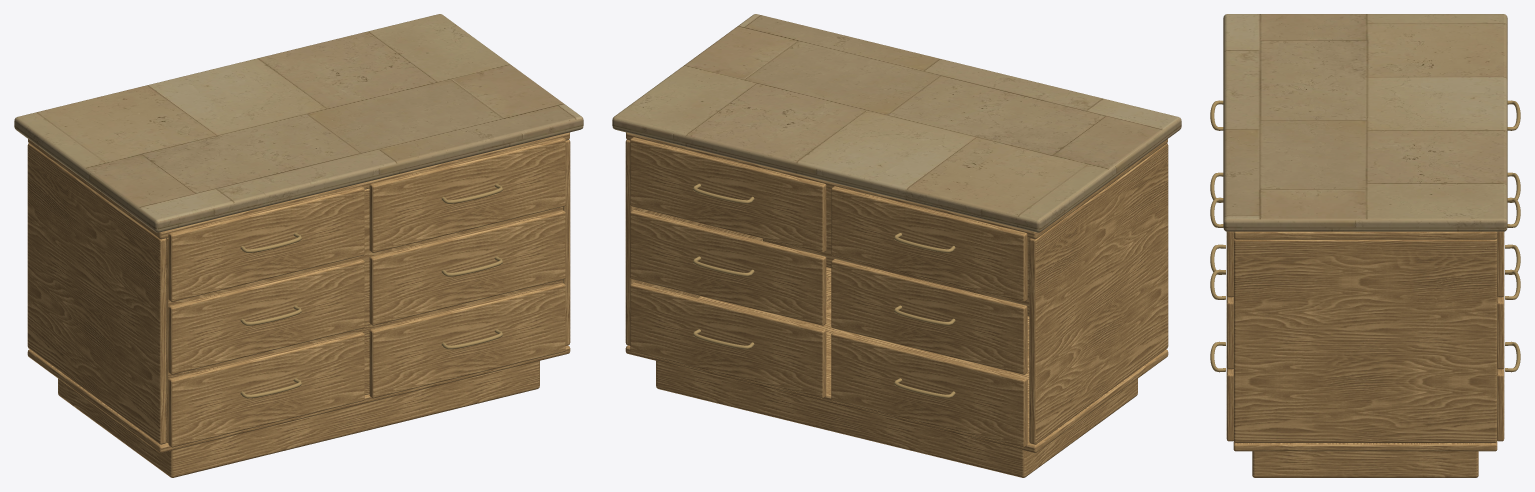
Rendered from residential-dressing-island.glb.
3 renders of one model, left to right at view 1: azimuth 30°, elevation 25°; view 2: azimuth 150°, elevation 25°; view 3: azimuth 270°, elevation 25°, orthographic.
Parts seen in each view (by area): view 1: oak_surfaces, stone_surfaces, bronze_surfaces; view 2: oak_surfaces, stone_surfaces, bronze_surfaces; view 3: oak_surfaces, stone_surfaces, bronze_surfaces.
Boxes of the visible parts, x1=… form: oak_surfaces: x1=27, y1=132, x2=570, y2=477; stone_surfaces: x1=14, y1=14, x2=583, y2=232; bronze_surfaces: x1=240, y1=183, x2=502, y2=398; oak_surfaces: x1=625, y1=132, x2=1168, y2=477; stone_surfaces: x1=612, y1=14, x2=1181, y2=232; bronze_surfaces: x1=693, y1=183, x2=955, y2=398; oak_surfaces: x1=1226, y1=231, x2=1504, y2=477; stone_surfaces: x1=1223, y1=14, x2=1507, y2=231; bronze_surfaces: x1=1210, y1=100, x2=1520, y2=372.
Bounding box in the file's own units: 1.45 × 0.8915 × 0.9175.
3 materials, 2 textured.
